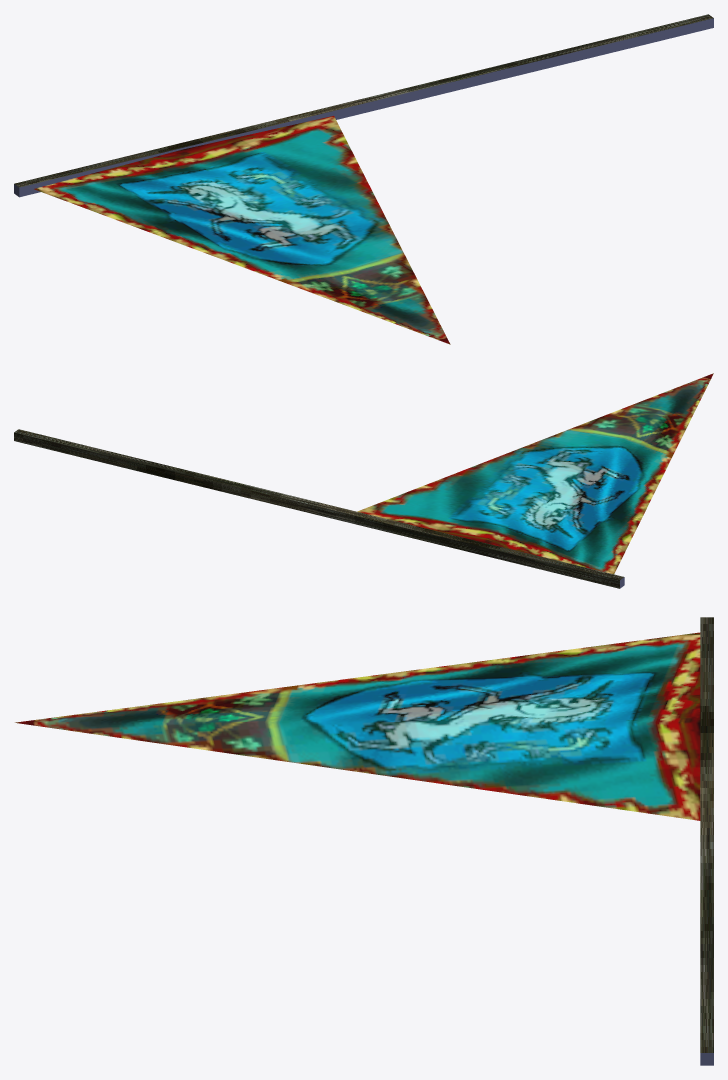
3 views of the same model, one above another, from view 1: azimuth 30°, elevation 25°; view 2: azimuth 150°, elevation 25°; view 3: azimuth 270°, elevation 25° (orthographic). The views are drawn at different scales.
Parts seen in each view (by area): view 1: TN2_F6; view 2: TN2_F6; view 3: TN2_F6.
Part boxes in pixels (bbox=[...]): TN2_F6: bbox=[14, 14, 713, 344]; TN2_F6: bbox=[14, 373, 713, 588]; TN2_F6: bbox=[15, 617, 713, 1065].
Size of the model in its own units: 3.07 by 0.0409 by 2.08.
Materials: 2 (2 with a texture image).
